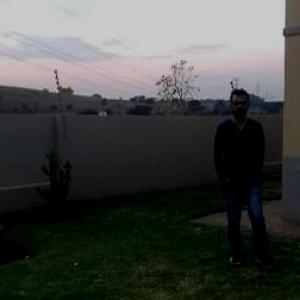follow: (213, 85, 270, 255)
